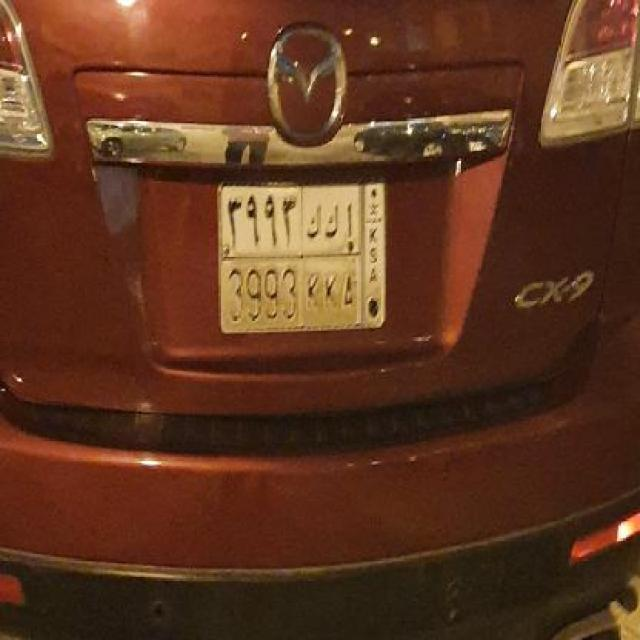license_plate: (214, 178, 388, 336)
